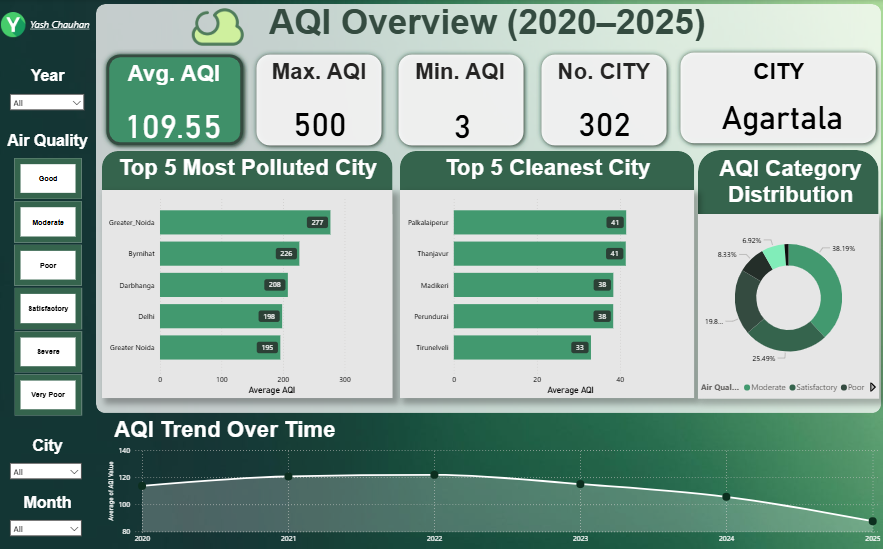

What the dashboard file says about the page in this screenshot:
{"tool":"powerbi","page":{"name":"Page 2","canvas":[1580,1020],"ordinal":1},"visuals":[{"type":"shape","box":[158,8,1412,812],"z":0},{"type":"image","box":[2.3,17.8,44.4,48.9],"z":0,"group":"g3"},{"type":"textbox","box":[46.7,25.6,147.8,32.2],"z":1000,"group":"g3"},{"type":"shape","box":[436.5,82,241.7,156.7],"z":1000},{"type":"lineChart","fields":{"Category":["AQI_2020_to_2025_October_clean (2).Date.Variation.Date Hierarchy.Year","AQI_2020_to_2025_October_clean (2).Date.Variation.Date Hierarchy.Quarter","AQI_2020_to_2025_October_clean (2).Date.Variation.Date Hierarchy.Month","AQI_2020_to_2025_October_clean (2).Date.Variation.Date Hierarchy.Day"],"Y":["Avg(AQI_2020_to_2025_October_clean (2).AQI Value)"]},"box":[168,242,1380,172],"z":2000},{"type":"shape","box":[170,82,262.4,156.2],"z":3000},{"type":"slicer","fields":{"Values":["AQI_2020_to_2025_October_clean (2).Date.Variation.Date Hierarchy.Year"]},"box":[8.9,148.9,144.4,42.2],"z":4000},{"type":"shape","box":[944.2,82,241.7,156.7],"z":5000},{"type":"slicer","fields":{"Values":["AQI_2020_to_2025_October_clean (2).City"]},"box":[7.8,766.7,140,50],"z":6000},{"type":"shape","box":[690.4,82,241.7,156.7],"z":7000},{"type":"slicer","fields":{"Values":["AQI_2020_to_2025_October_clean (2).Air Quality"]},"box":[0,260,162.2,444.4],"z":8000},{"type":"card","fields":{"Values":["AQI_2020_to_2025_October_clean (2).Max AQI"]},"box":[452.7,153.9,211.2,79.3],"z":9000},{"type":"textbox","box":[169.9,0,1292.3,94.8],"z":10000},{"type":"card","fields":{"Values":["AQI_2020_to_2025_October_clean (2).Average AQI"]},"box":[193.1,156.5,210,78.1],"z":11000},{"type":"textbox","box":[530,308,460,68],"z":12000},{"type":"card","fields":{"Values":["AQI_2020_to_2025_October_clean (2).City Record Count"]},"box":[960.5,153.9,211.2,79.3],"z":13000},{"type":"textbox","box":[0,108.9,162.2,48.9],"z":14000},{"type":"shape","box":[168,418,486,99.9],"z":14000,"group":"g1"},{"type":"card","fields":{"Values":["AQI_2020_to_2025_October_clean (2).Min AQI"]},"box":[706.6,155.7,211.2,79.3],"z":15000},{"type":"shape","box":[672,406,876,100],"z":15000,"group":"g2"},{"type":"textbox","box":[0,217.8,162.2,48.9],"z":16000},{"type":"clusteredBarChart","fields":{"Category":["AQI_2020_to_2025_October_clean (2).Air Quality"],"Y":["CountNonNull(AQI_2020_to_2025_October_clean (2).City)"]},"box":[168,480.2,486,327.8],"z":17000,"group":"g1"},{"type":"textbox","box":[0,727.8,162.2,48.9],"z":17000},{"type":"clusteredColumnChart","fields":{"Category":["AQI_2020_to_2025_October_clean (2).Date.Variation.Date Hierarchy.Year"],"Y":["Avg(AQI_2020_to_2025_October_clean (2).AQI Value)","Avg(AQI_2020_to_2025_October_clean (2).National Avg AQI)"]},"box":[672,470.2,876,337.8],"z":18000,"group":"g2"},{"type":"areaChart","fields":{"Category":["AQI_2020_to_2025_October_clean (2).Month Number "],"Y":["Avg(AQI_2020_to_2025_October_clean (2).AQI Value)"]},"box":[148,868,1414,152],"z":18000},{"type":"group","id":"g1","title":"Group 2","box":[168,418,486,390],"z":19000},{"type":"group","id":"g2","title":"Group 3","box":[672,406,876,402],"z":20000},{"type":"textbox","box":[148,820,460,68],"z":21000},{"type":"shape","box":[1194.6,83.8,367.4,156.2],"z":22000},{"type":"card","fields":{"Values":["AQI_2020_to_2025_October_clean (2).Dominant AQI Category"]},"box":[1221.9,132.9,321.2,96.3],"z":23000},{"type":"textbox","box":[191,96.5,220.5,63.6],"z":24000},{"type":"textbox","box":[954.2,92.1,221,88.2],"z":25000},{"type":"textbox","box":[699.1,92.9,220.5,63.6],"z":26000},{"type":"textbox","box":[447.1,92.9,220.5,63.6],"z":27000},{"type":"textbox","box":[1200.9,92.9,348.5,63.6],"z":28000},{"type":"textbox","box":[176,419.9,472,60.3],"z":28000,"group":"g1"},{"type":"group","id":"g3","title":"Group 1","box":[2.3,17.8,192.2,48.9],"z":28001},{"type":"textbox","box":[676.3,406,871.7,66.1],"z":29000,"group":"g2"}]}

Visuals, with their boxes on the page's 1580x1020 design canvas (x1, y1, x2, y2). These are canvas units, not pixel positions in the 883x549 screenshot, which may show the page scaled, cropped or inside an application window:
shape: (158, 8, 1570, 820)
image: (2, 18, 47, 67)
textbox: (47, 26, 194, 58)
shape: (436, 82, 678, 239)
lineChart - AQI_2020_to_2025_October_clean (2).Date.Variation.Date Hierarchy.Year x AQI_2020_to_2025_October_clean (2).Date.Variation.Date Hierarchy.Quarter: (168, 242, 1548, 414)
shape: (170, 82, 432, 238)
slicer - AQI_2020_to_2025_October_clean (2).Date.Variation.Date Hierarchy.Year: (9, 149, 153, 191)
shape: (944, 82, 1186, 239)
slicer - AQI_2020_to_2025_October_clean (2).City: (8, 767, 148, 817)
shape: (690, 82, 932, 239)
slicer - AQI_2020_to_2025_October_clean (2).Air Quality: (0, 260, 162, 704)
card - AQI_2020_to_2025_October_clean (2).Max AQI: (453, 154, 664, 233)
textbox: (170, 0, 1462, 95)
card - AQI_2020_to_2025_October_clean (2).Average AQI: (193, 156, 403, 235)
textbox: (530, 308, 990, 376)
card - AQI_2020_to_2025_October_clean (2).City Record Count: (960, 154, 1172, 233)
textbox: (0, 109, 162, 158)
shape: (168, 418, 654, 518)
card - AQI_2020_to_2025_October_clean (2).Min AQI: (707, 156, 918, 235)
shape: (672, 406, 1548, 506)
textbox: (0, 218, 162, 267)
clusteredBarChart - AQI_2020_to_2025_October_clean (2).Air Quality x CountNonNull(AQI_2020_to_2025_October_clean (2).City): (168, 480, 654, 808)
textbox: (0, 728, 162, 777)
clusteredColumnChart - AQI_2020_to_2025_October_clean (2).Date.Variation.Date Hierarchy.Year x Avg(AQI_2020_to_2025_October_clean (2).AQI Value): (672, 470, 1548, 808)
areaChart - AQI_2020_to_2025_October_clean (2).Month Number  x Avg(AQI_2020_to_2025_October_clean (2).AQI Value): (148, 868, 1562, 1020)
"Group 2" group: (168, 418, 654, 808)
"Group 3" group: (672, 406, 1548, 808)
textbox: (148, 820, 608, 888)
shape: (1195, 84, 1562, 240)
card - AQI_2020_to_2025_October_clean (2).Dominant AQI Category: (1222, 133, 1543, 229)
textbox: (191, 96, 412, 160)
textbox: (954, 92, 1175, 180)
textbox: (699, 93, 920, 156)
textbox: (447, 93, 668, 156)
textbox: (1201, 93, 1549, 156)
textbox: (176, 420, 648, 480)
"Group 1" group: (2, 18, 194, 67)
textbox: (676, 406, 1548, 472)
